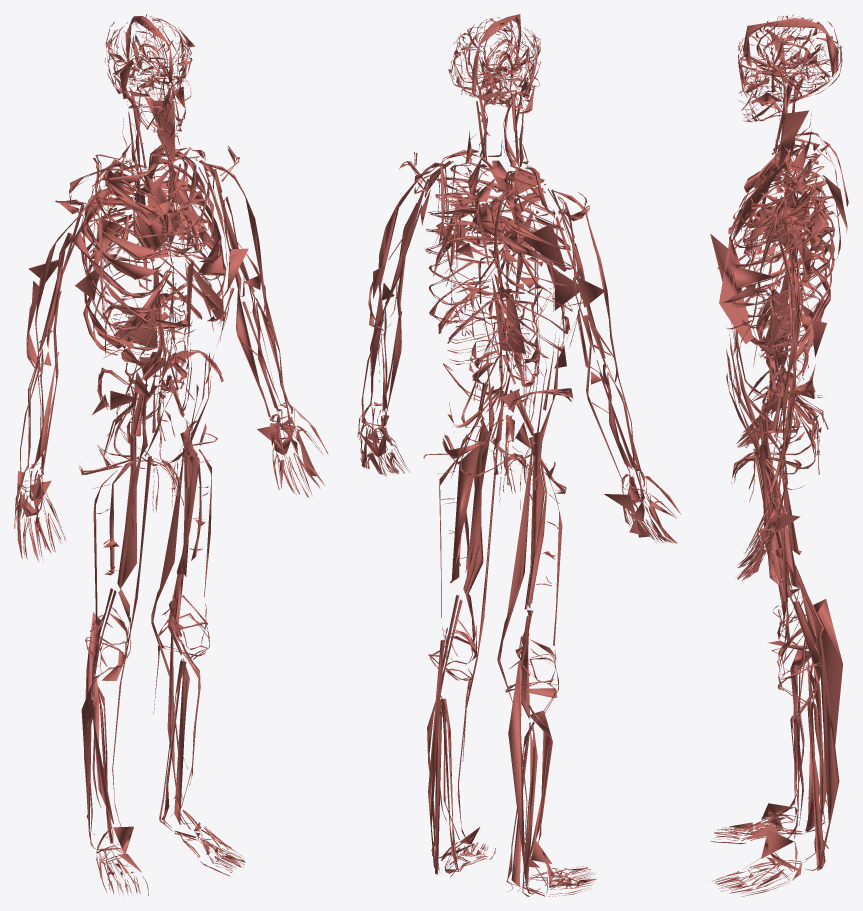
The model's file is cardio.glb.
The picture shows the model from 3 angles, left to right: view 1: azimuth 30°, elevation 25°; view 2: azimuth 150°, elevation 25°; view 3: azimuth 270°, elevation 25°; orthographic projection. The views are drawn at different scales.
Visible parts, largest first — view 1: cardio; view 2: cardio; view 3: cardio.
Boxes of the visible parts, x1,y1,x2,y2 form: cardio: (14,14,328,895); cardio: (357,14,680,896); cardio: (710,14,848,896).
Size of the model in its own units: 0.6612 by 1.7 by 0.252.
